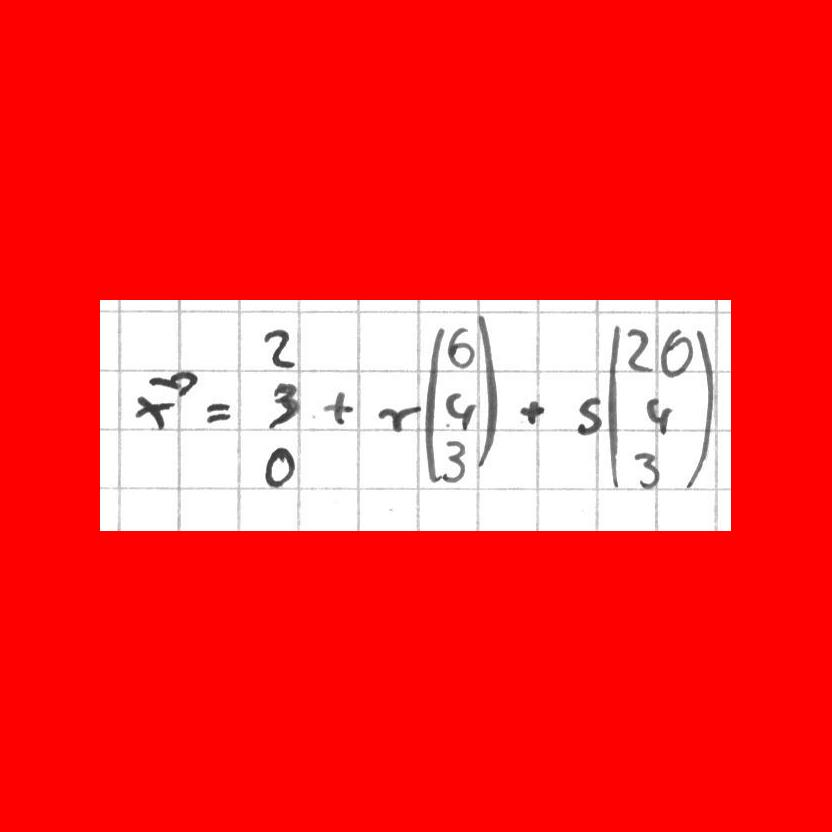Char: (475, 312, 504, 477), (686, 324, 713, 491), (423, 322, 444, 486), (604, 322, 624, 490), (258, 379, 303, 432), (658, 325, 693, 383), (129, 391, 177, 433), (144, 364, 198, 400), (260, 445, 301, 492), (375, 400, 422, 439), (260, 325, 297, 373), (443, 389, 479, 435), (624, 325, 656, 375), (443, 324, 477, 371), (318, 388, 355, 428), (573, 392, 605, 438), (643, 391, 673, 439), (440, 439, 467, 484), (633, 444, 658, 489), (516, 397, 550, 429), (201, 397, 233, 427)
